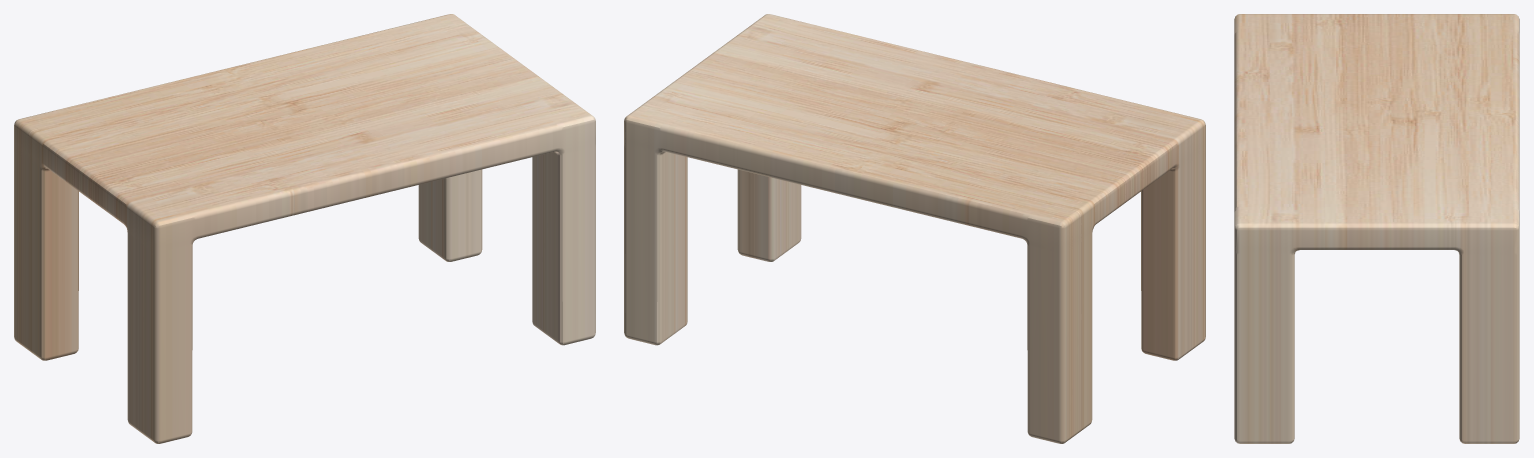
The model's file is Table(Light).fbx.
3 views of the same model, side by side, from view 1: azimuth 30°, elevation 25°; view 2: azimuth 150°, elevation 25°; view 3: azimuth 270°, elevation 25° (orthographic).
Visible parts, largest first — view 1: table1; view 2: table1; view 3: table1.
Part boxes in pixels (x1=…): table1: x1=14, y1=14, x2=595, y2=443; table1: x1=624, y1=14, x2=1205, y2=443; table1: x1=1234, y1=14, x2=1519, y2=443.
Bounding box in the file's own units: 2.01 × 0.9691 × 1.14.
Materials: 1 (1 with a texture image).
